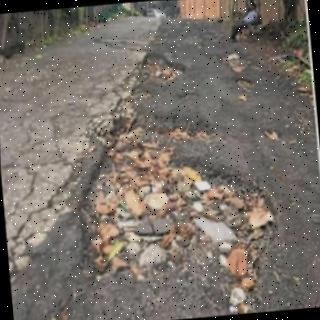pothole: (82, 98, 274, 314), (141, 53, 185, 83), (222, 53, 251, 72), (235, 77, 255, 92)
